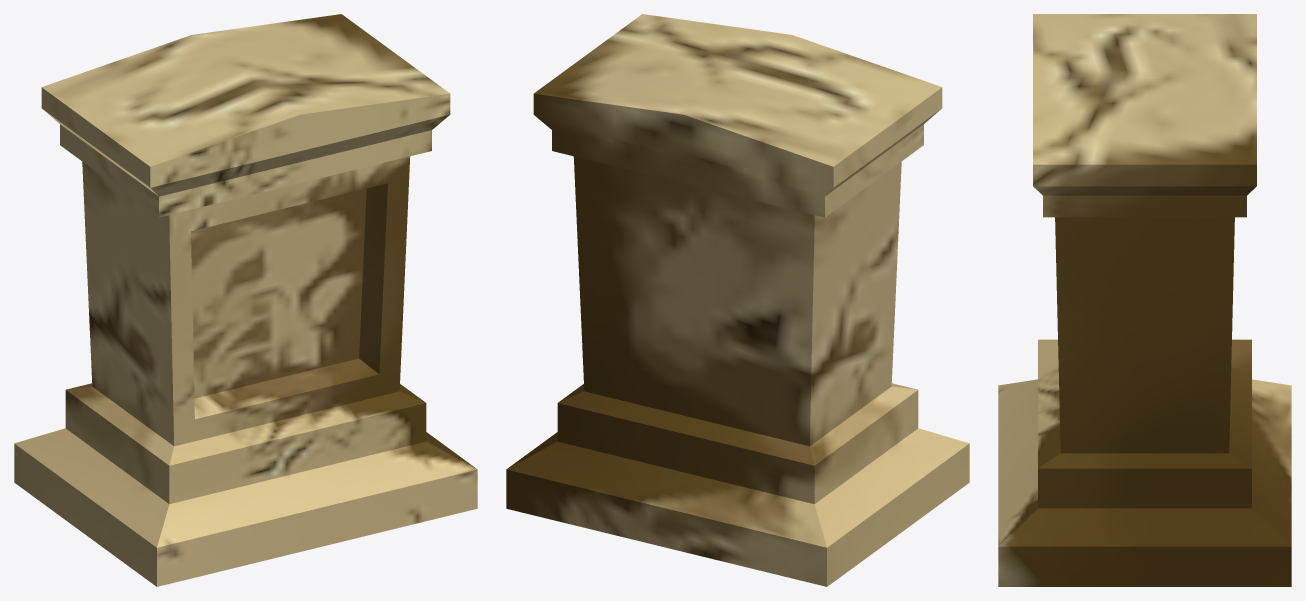
Rendered from Rome_Village_Props_16.FBX.
The picture shows the model from 3 angles, left to right: view 1: azimuth 30°, elevation 25°; view 2: azimuth 150°, elevation 25°; view 3: azimuth 270°, elevation 25°; orthographic projection. The views are drawn at different scales.
Visible parts, largest first — view 1: Rome_Village_Props_16; view 2: Rome_Village_Props_16; view 3: Rome_Village_Props_16.
Part boxes in pixels (bbox=[...]): Rome_Village_Props_16: bbox=[14, 14, 477, 586]; Rome_Village_Props_16: bbox=[506, 14, 969, 586]; Rome_Village_Props_16: bbox=[998, 14, 1291, 586].
Size of the model in its own units: 64.62 by 80.99 by 49.76.
